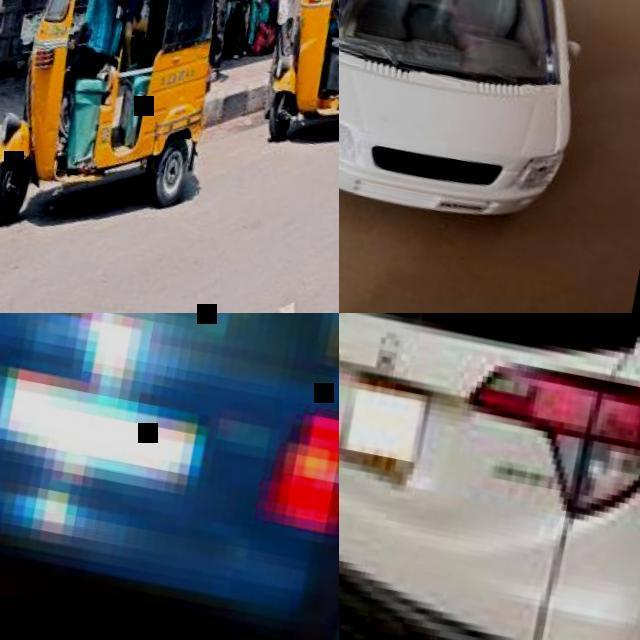car: (337, 0, 574, 216), (5, 0, 223, 217)
